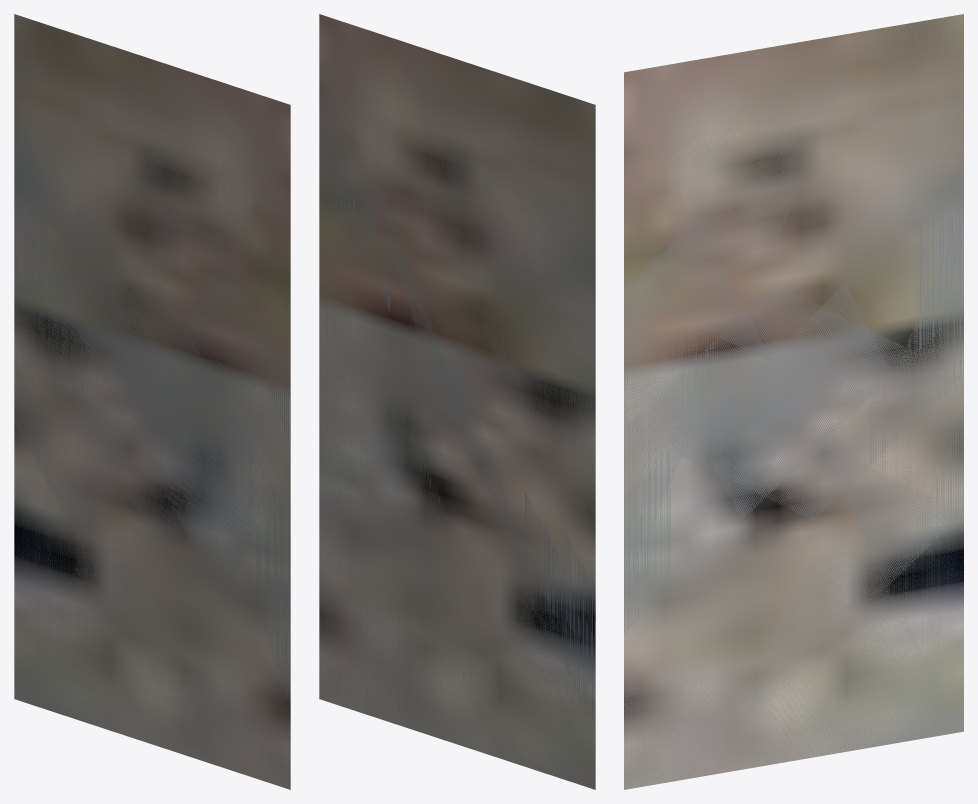
File: 西庸城堡379.dae
3 views of the same model, side by side, from view 1: azimuth 30°, elevation 25°; view 2: azimuth 210°, elevation 25°; view 3: azimuth 270°, elevation 25° (orthographic). The views are drawn at different scales.
Visible parts, largest first — view 1: SketchUp; view 2: SketchUp; view 3: SketchUp.
Part boxes in pixels (box(x1,y1,x2,y2)): SketchUp: box(14, 14, 290, 789); SketchUp: box(319, 14, 595, 789); SketchUp: box(624, 14, 963, 789).
Size of the model in its own units: 11.12 by 27.37 by 63.78.
